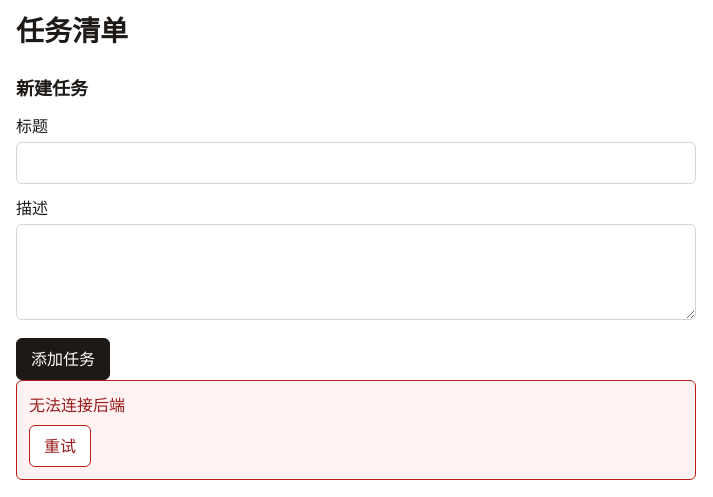
Test: shows a connection error and retries
Expected: the element with test id "task-error" shows "无法连接后端", x1=29 y1=394 x2=125 y2=416
Click the button with test id "task-retry" at {"x": 60, "y": 446}, box x1=29 y1=425 x2=91 y2=467
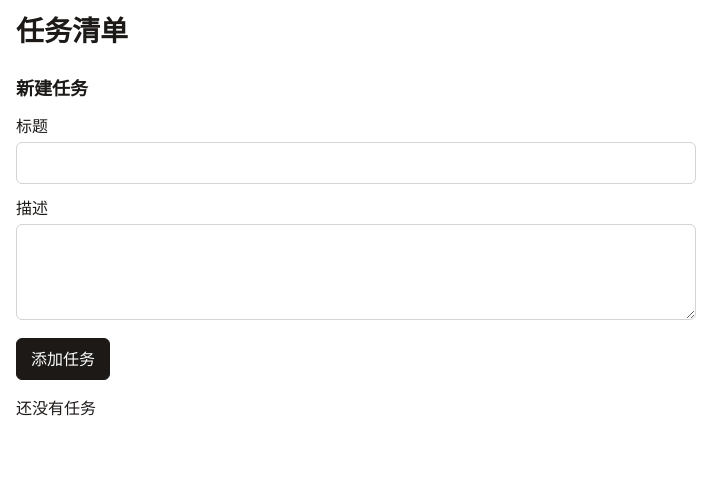
Expected: the text "还没有任务" is shown, x1=16 y1=397 x2=96 y2=419
